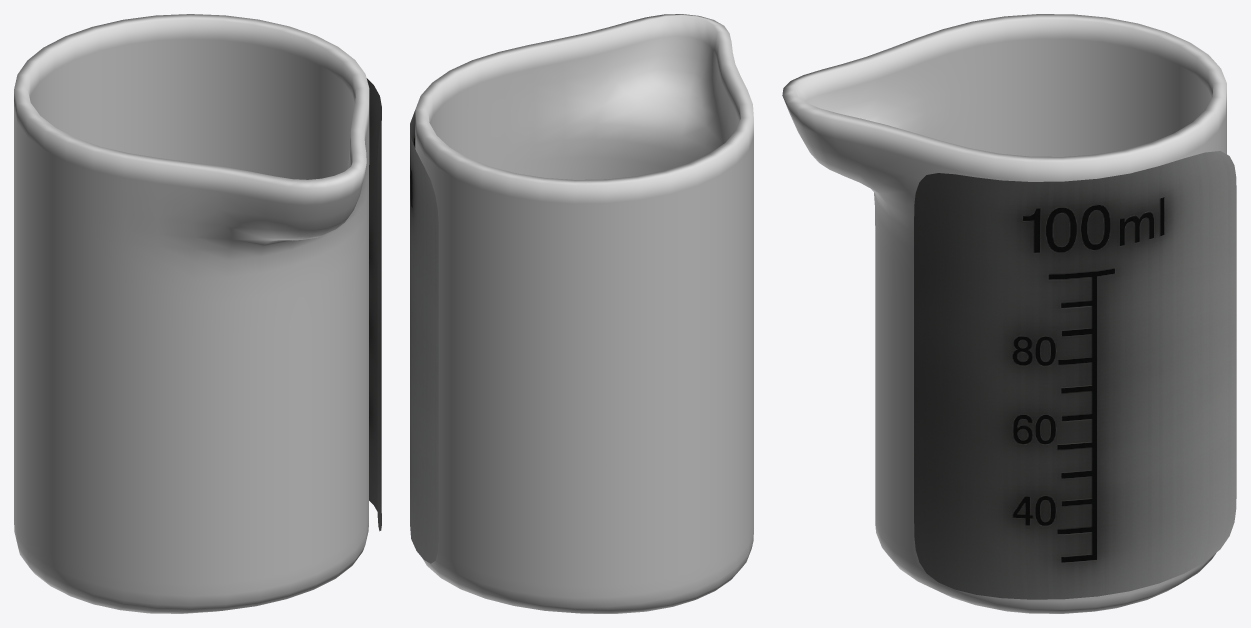
The model's file is Beaker glass 100.fbx.
3 renders of one model, left to right at view 1: azimuth 30°, elevation 25°; view 2: azimuth 150°, elevation 25°; view 3: azimuth 270°, elevation 25°, orthographic. The views are drawn at different scales.
Visible parts, largest first — view 1: Beaker glass 100, teks Beaker glass 100; view 2: Beaker glass 100, teks Beaker glass 100; view 3: teks Beaker glass 100, Beaker glass 100.
Boxes of the visible parts, x1,y1,x2,y2 form: Beaker glass 100: (14,14,369,613); teks Beaker glass 100: (366,78,381,531); Beaker glass 100: (415,14,753,613); teks Beaker glass 100: (410,110,438,563); teks Beaker glass 100: (914,151,1236,599); Beaker glass 100: (782,14,1226,613).
Bounding box in the file's own units: 0.0535 × 0.0766 × 0.0675.
2 materials, 1 textured.
